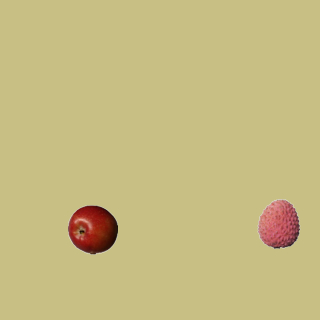Apple Braeburn: (67, 204, 117, 254)
Lychee: (253, 198, 303, 248)
